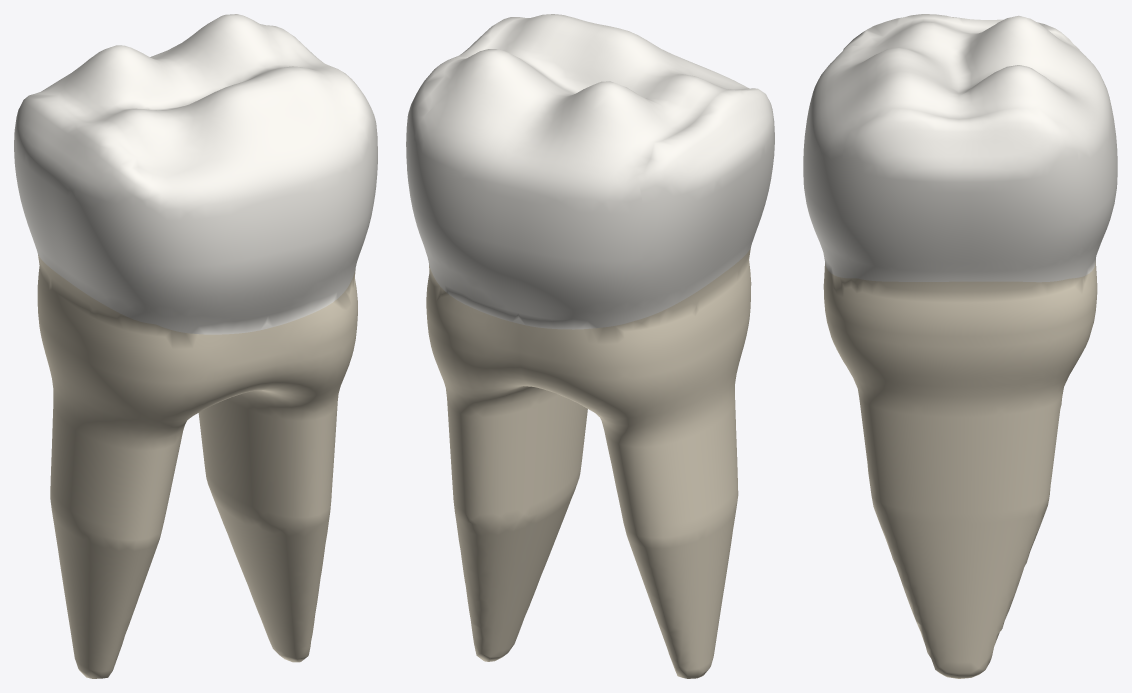
3 renders of one model, left to right at view 1: azimuth 30°, elevation 25°; view 2: azimuth 150°, elevation 25°; view 3: azimuth 270°, elevation 25°, orthographic. The views are drawn at different scales.
Visible parts, largest first — view 1: root, V, D, O, M; view 2: root, L, D, O, M, V; view 3: root, M, O, L, V, D.
Part boxes in pixels (left/top/right/bottom): root: left=37, top=254, right=357, bottom=678; V: left=146, top=92, right=372, bottom=334; D: left=14, top=73, right=154, bottom=324; O: left=58, top=14, right=336, bottom=162; M: left=268, top=25, right=377, bottom=268; root: left=426, top=247, right=751, bottom=678; L: left=410, top=78, right=643, bottom=329; D: left=624, top=88, right=774, bottom=320; O: left=444, top=14, right=730, bottom=142; M: left=406, top=17, right=526, bottom=270; V: left=643, top=38, right=749, bottom=88; root: left=823, top=261, right=1097, bottom=678; M: left=839, top=91, right=1079, bottom=282; O: left=873, top=15, right=1047, bottom=118; L: left=1041, top=29, right=1117, bottom=278; V: left=803, top=45, right=877, bottom=278; D: left=845, top=14, right=1072, bottom=47.
Bounding box in the file's own units: 10.98 × 21.99 × 10.5.
